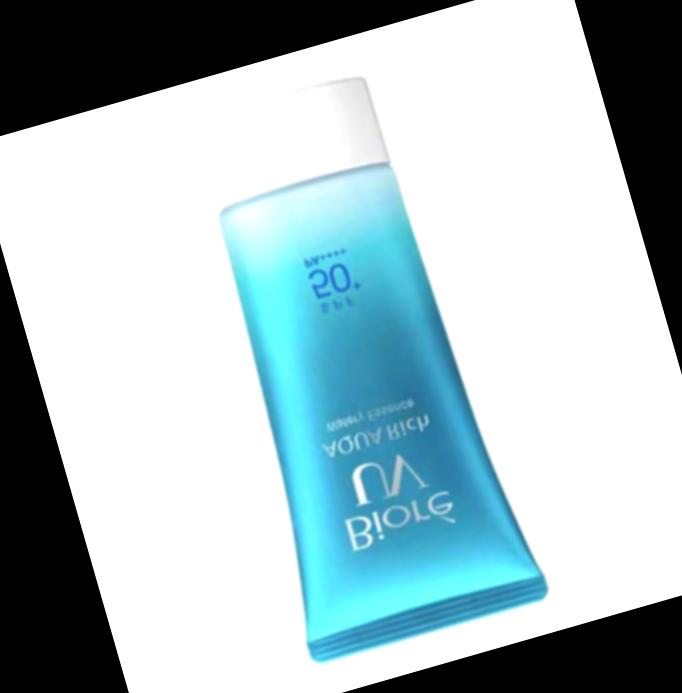cosmetic: (156, 59, 552, 668)
